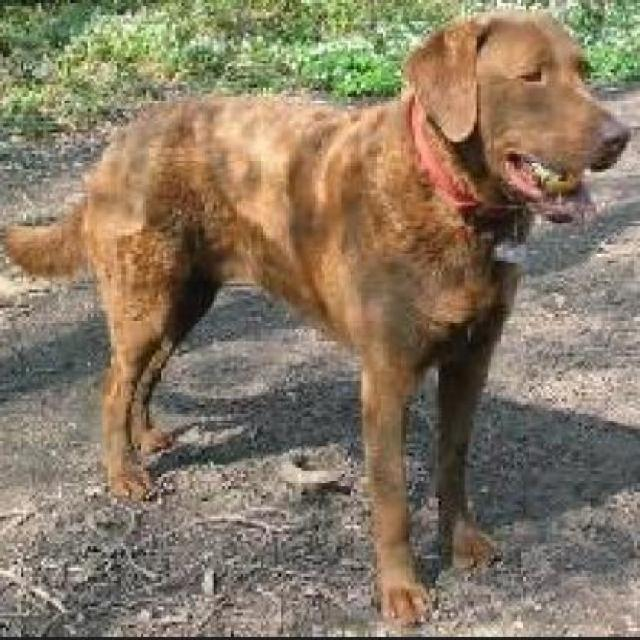Dog: (3, 6, 637, 625)
